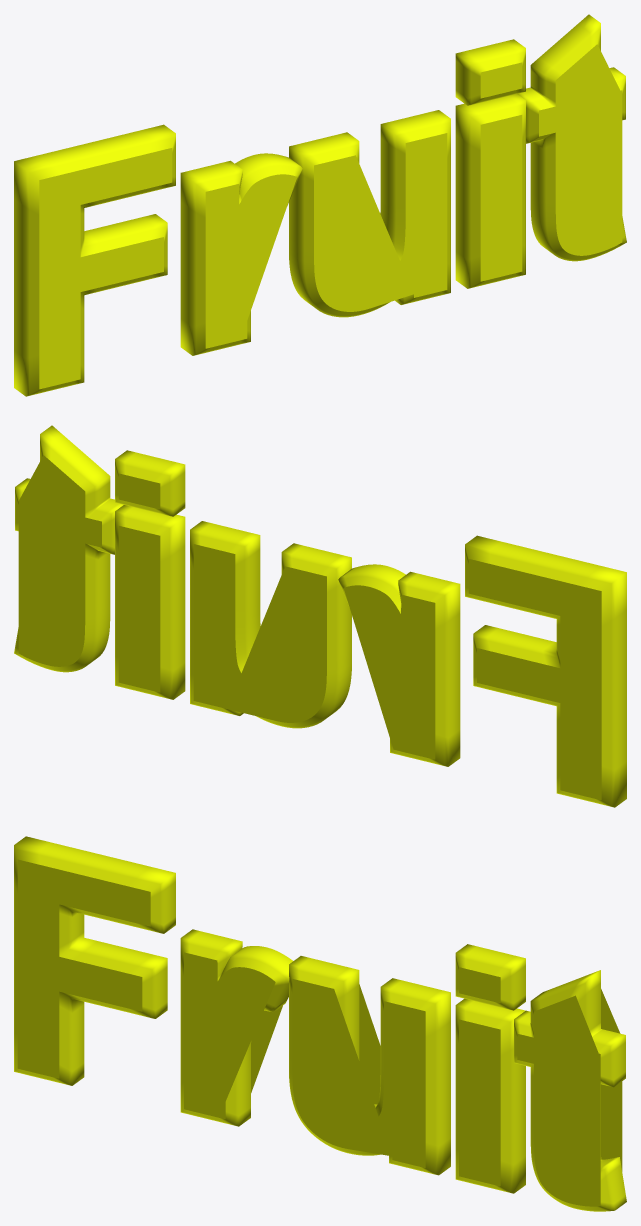
File: fruit.obj
3 renders of one model, top to bottom at view 1: azimuth 30°, elevation 25°; view 2: azimuth 150°, elevation 25°; view 3: azimuth 330°, elevation 25°, orthographic.
Visible parts, largest first — view 1: polySurface1; view 2: polySurface1; view 3: polySurface1.
Boxes of the visible parts, box(x1,y1,x2,y2) form: polySurface1: box(14, 14, 626, 396); polySurface1: box(14, 425, 626, 807); polySurface1: box(14, 836, 626, 1211).
Bounding box in the file's own units: 7.21 × 2.68 × 0.45.
